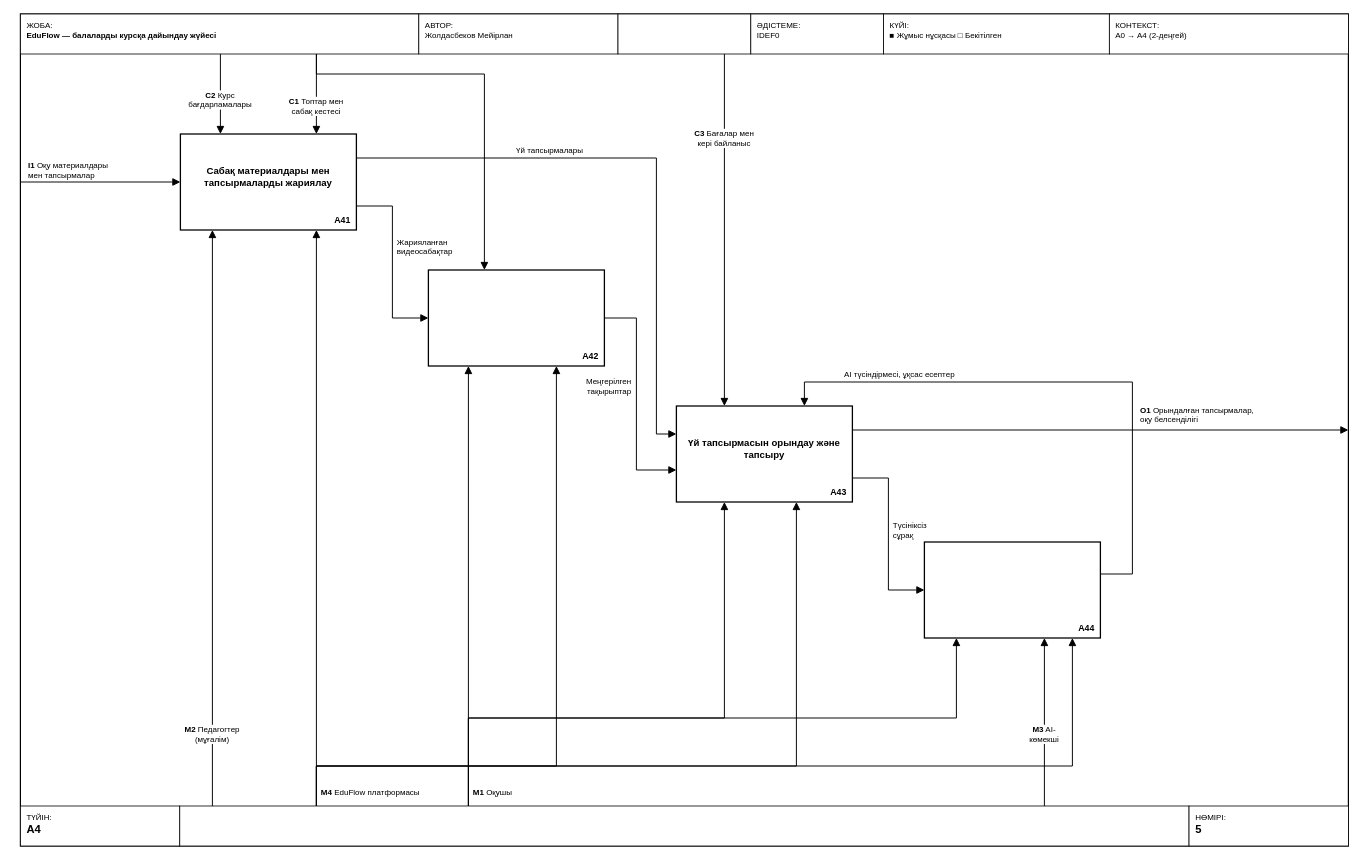
Some shapes in this 1370 by 861 pixel diagram are drawn without their labels. Each missing label, with the box of its shape:
AI-көмекшіден түсіндірме алу: (923, 541, 1101, 638)
АТАУЫ: Сабақтарды өткізу және тапсырмаларды орындау: (179, 805, 1189, 846)
Видеосабақты көру және сабаққа қатысу: (427, 269, 605, 366)
КҮНІ: 09.10.2026: (617, 13, 751, 54)
